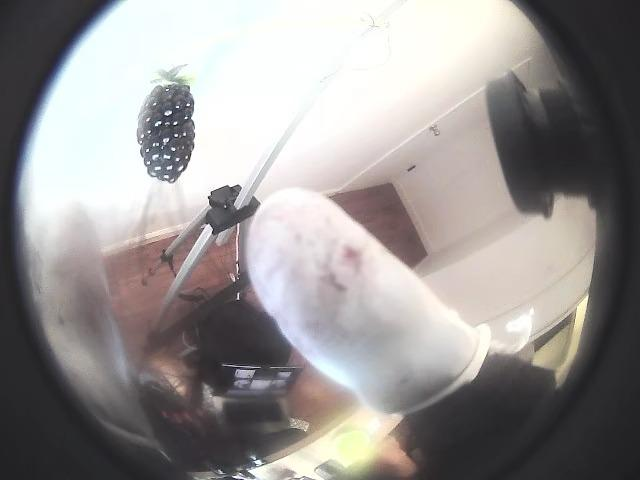berry: (137, 83, 193, 182)
gripper: (246, 188, 490, 412), (42, 206, 158, 447)
lense: (452, 0, 639, 479), (0, 0, 156, 479)
